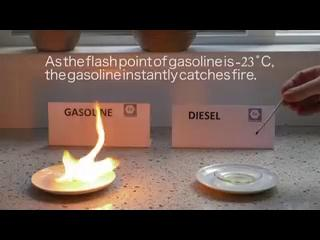Fire: (56, 114, 112, 187)
